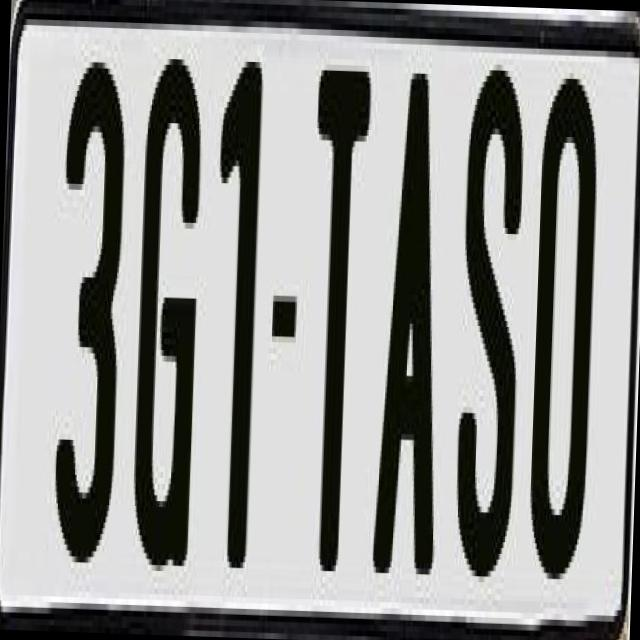0: (522, 59, 596, 586)
1: (201, 60, 267, 597)
3: (52, 54, 134, 586)
A: (367, 60, 448, 592)
G: (128, 58, 204, 572)
S: (452, 63, 534, 601)
T: (297, 58, 373, 566)
